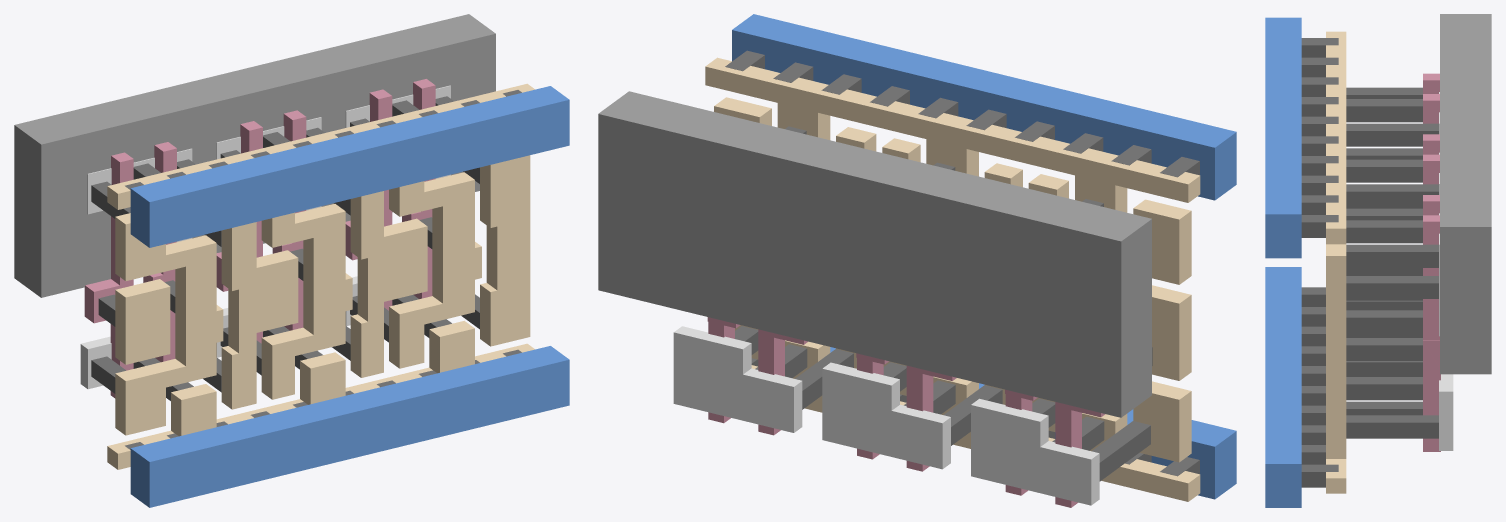
The model's file is sky130_fd_sc_hd__dlymetal6s6s_1.gds.gltf.
3 renders of one model, left to right at view 1: azimuth 30°, elevation 25°; view 2: azimuth 150°, elevation 25°; view 3: azimuth 270°, elevation 25°, orthographic. The views are drawn at different scales.
Visible parts, largest first — view 1: sky130_fd_sc_hd__dlymetal6s6s_1_li1, sky130_fd_sc_hd__dlymetal6s6s_1_met1, sky130_fd_sc_hd__dlymetal6s6s_1_nwell, sky130_fd_sc_hd__dlymetal6s6s_1_poly, sky130_fd_sc_hd__dlymetal6s6s_1_licon, sky130_fd_sc_hd__dlymetal6s6s_1_diff, sky130_fd_sc_hd__dlymetal6s6s_1_mcon; view 2: sky130_fd_sc_hd__dlymetal6s6s_1_nwell, sky130_fd_sc_hd__dlymetal6s6s_1_li1, sky130_fd_sc_hd__dlymetal6s6s_1_diff, sky130_fd_sc_hd__dlymetal6s6s_1_met1, sky130_fd_sc_hd__dlymetal6s6s_1_licon, sky130_fd_sc_hd__dlymetal6s6s_1_poly, sky130_fd_sc_hd__dlymetal6s6s_1_mcon; view 3: sky130_fd_sc_hd__dlymetal6s6s_1_licon, sky130_fd_sc_hd__dlymetal6s6s_1_nwell, sky130_fd_sc_hd__dlymetal6s6s_1_met1, sky130_fd_sc_hd__dlymetal6s6s_1_mcon, sky130_fd_sc_hd__dlymetal6s6s_1_li1, sky130_fd_sc_hd__dlymetal6s6s_1_poly, sky130_fd_sc_hd__dlymetal6s6s_1_diff.
Part boxes in pixels (x1=…): sky130_fd_sc_hd__dlymetal6s6s_1_li1: x1=107, y1=83, x2=534, y2=469; sky130_fd_sc_hd__dlymetal6s6s_1_met1: x1=130, y1=86, x2=569, y2=507; sky130_fd_sc_hd__dlymetal6s6s_1_nwell: x1=14, y1=14, x2=495, y2=297; sky130_fd_sc_hd__dlymetal6s6s_1_poly: x1=84, y1=79, x2=435, y2=398; sky130_fd_sc_hd__dlymetal6s6s_1_licon: x1=91, y1=96, x2=479, y2=400; sky130_fd_sc_hd__dlymetal6s6s_1_diff: x1=80, y1=85, x2=450, y2=389; sky130_fd_sc_hd__dlymetal6s6s_1_mcon: x1=125, y1=90, x2=521, y2=449; sky130_fd_sc_hd__dlymetal6s6s_1_nwell: x1=598, y1=91, x2=1151, y2=417; sky130_fd_sc_hd__dlymetal6s6s_1_li1: x1=705, y1=57, x2=1200, y2=501; sky130_fd_sc_hd__dlymetal6s6s_1_diff: x1=673, y1=326, x2=1099, y2=505; sky130_fd_sc_hd__dlymetal6s6s_1_met1: x1=732, y1=14, x2=1236, y2=499; sky130_fd_sc_hd__dlymetal6s6s_1_licon: x1=735, y1=126, x2=1152, y2=481; sky130_fd_sc_hd__dlymetal6s6s_1_poly: x1=707, y1=317, x2=1105, y2=507; sky130_fd_sc_hd__dlymetal6s6s_1_mcon: x1=725, y1=50, x2=1199, y2=476; sky130_fd_sc_hd__dlymetal6s6s_1_licon: x1=1346, y1=87, x2=1438, y2=438; sky130_fd_sc_hd__dlymetal6s6s_1_nwell: x1=1440, y1=14, x2=1491, y2=374; sky130_fd_sc_hd__dlymetal6s6s_1_met1: x1=1265, y1=17, x2=1301, y2=507; sky130_fd_sc_hd__dlymetal6s6s_1_mcon: x1=1301, y1=38, x2=1338, y2=487; sky130_fd_sc_hd__dlymetal6s6s_1_li1: x1=1326, y1=31, x2=1346, y2=493; sky130_fd_sc_hd__dlymetal6s6s_1_poly: x1=1423, y1=73, x2=1440, y2=451; sky130_fd_sc_hd__dlymetal6s6s_1_diff: x1=1439, y1=92, x2=1453, y2=450.
Size of the model in its own units: 4.98 by 3.2 by 2.24.
